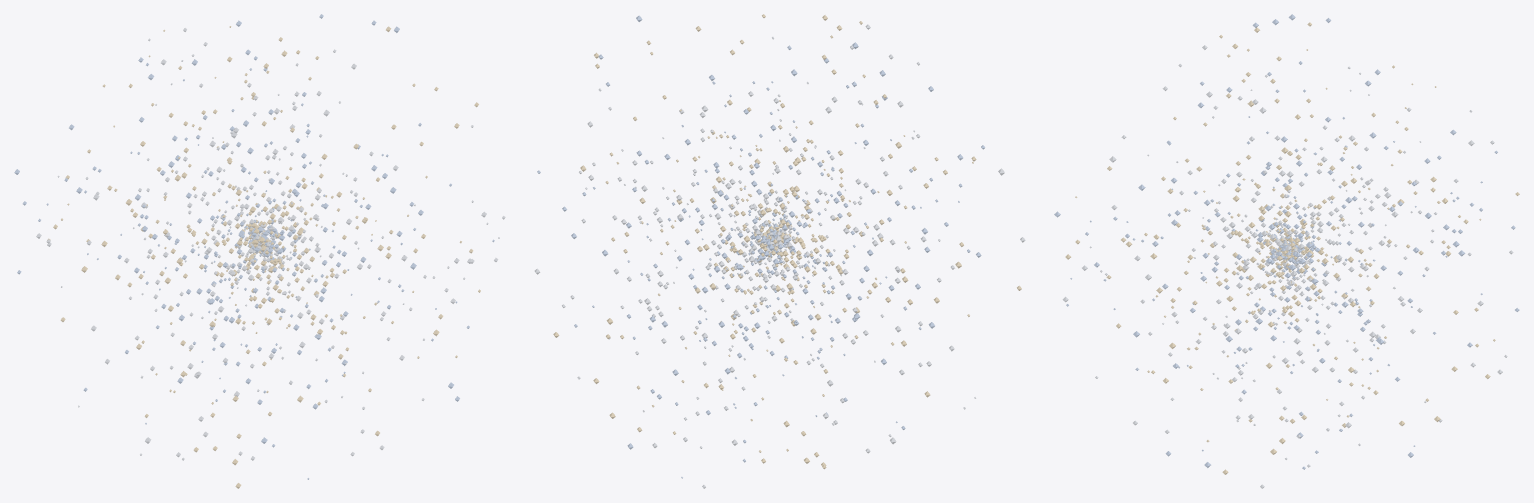
3 views of the same model, side by side, from view 1: azimuth 30°, elevation 25°; view 2: azimuth 150°, elevation 25°; view 3: azimuth 270°, elevation 25° (orthographic). The views are drawn at different scales.
Bounding box in the file's own units: 5.07 × 4.75 × 4.89.
